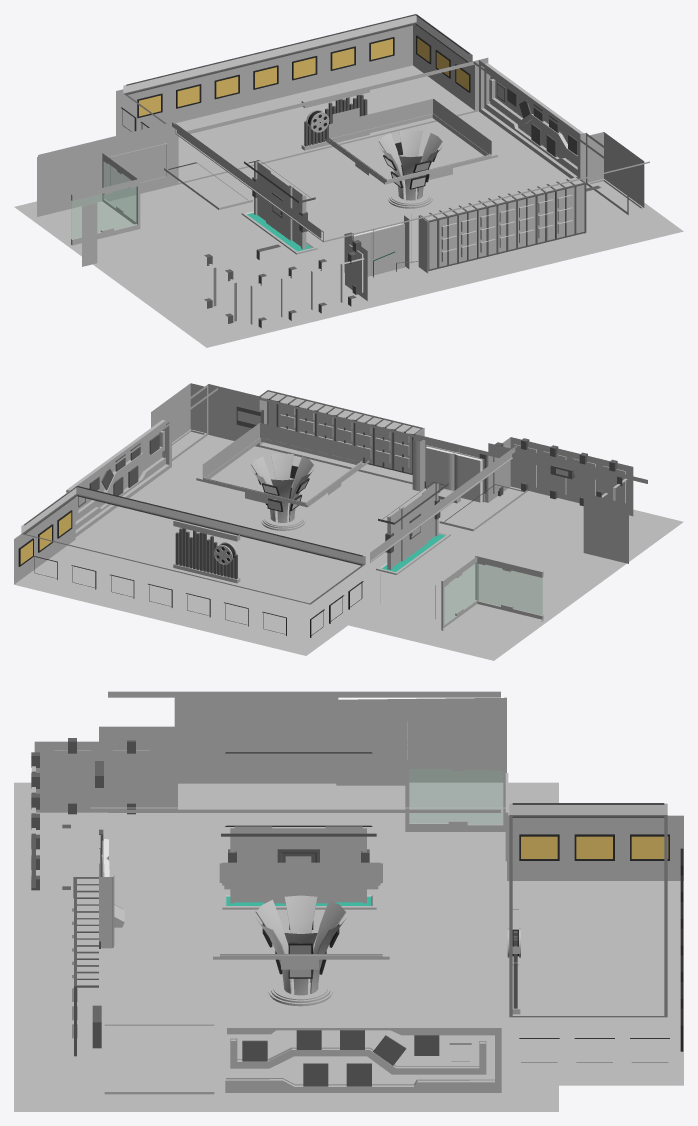
The model's file is YFCG_.gltf.
3 renders of one model, top to bottom at view 1: azimuth 30°, elevation 25°; view 2: azimuth 150°, elevation 25°; view 3: azimuth 270°, elevation 25°, orthographic. The views are drawn at different scales.
Visible parts, largest first — view 1: YFCG_2687, YFCG_2695, YFCG_2666, YFCG_2716, YFCG_2669, YFCG_2667, YFCG_2732, YFCG_2701, YFCG_2672, YFCG_2744, YFCG_2705, YFCG_2688 (+25 smaller); view 2: YFCG_2687, YFCG_2695, YFCG_2670, YFCG_2667, YFCG_2711, YFCG_2724, YFCG_2669, YFCG_2701, YFCG_2705, YFCG_2700, YFCG_2691, YFCG_2744 (+26 smaller); view 3: YFCG_2687, YFCG_2695, YFCG_2666, YFCG_2745, YFCG_2674, YFCG_2667, YFCG_2670, YFCG_2704, YFCG_2688, YFCG_2691, YFCG_2744, YFCG_2680 (+21 smaller).
Boxes of the visible parts, x1,y1,x2,y2 form: YFCG_2687: (14,111,683,347); YFCG_2695: (176,65,476,184); YFCG_2666: (37,24,488,266); YFCG_2716: (116,25,412,135); YFCG_2669: (421,177,584,269); YFCG_2667: (38,61,649,242); YFCG_2732: (139,38,468,116); YFCG_2701: (123,14,472,93); YFCG_2672: (419,176,586,271); YFCG_2744: (331,100,489,154); YFCG_2705: (71,187,136,238); YFCG_2688: (378,130,442,200); YFCG_2687: (75,435,683,660); YFCG_2695: (14,539,367,655); YFCG_2670: (415,434,633,563); YFCG_2667: (82,387,647,562); YFCG_2711: (152,383,267,460); YFCG_2724: (280,402,409,468); YFCG_2669: (261,391,420,473); YFCG_2701: (21,486,365,564); YFCG_2705: (478,564,542,615); YFCG_2700: (21,486,364,604); YFCG_2691: (443,604,542,645); YFCG_2744: (204,424,360,477); YFCG_2687: (14,782,558,1111); YFCG_2695: (507,881,683,1085); YFCG_2666: (336,697,683,880); YFCG_2745: (174,697,338,783); YFCG_2674: (225,1025,501,1092); YFCG_2667: (91,691,505,959); YFCG_2670: (34,726,177,812); YFCG_2704: (409,769,502,824); YFCG_2688: (255,895,346,995); YFCG_2691: (409,782,503,823); YFCG_2744: (222,864,381,883); YFCG_2680: (230,828,366,903).
Bounding box in the file's own units: 35.8 × 5.07 × 30.1.
Materials: 64 (1 with a texture image).
